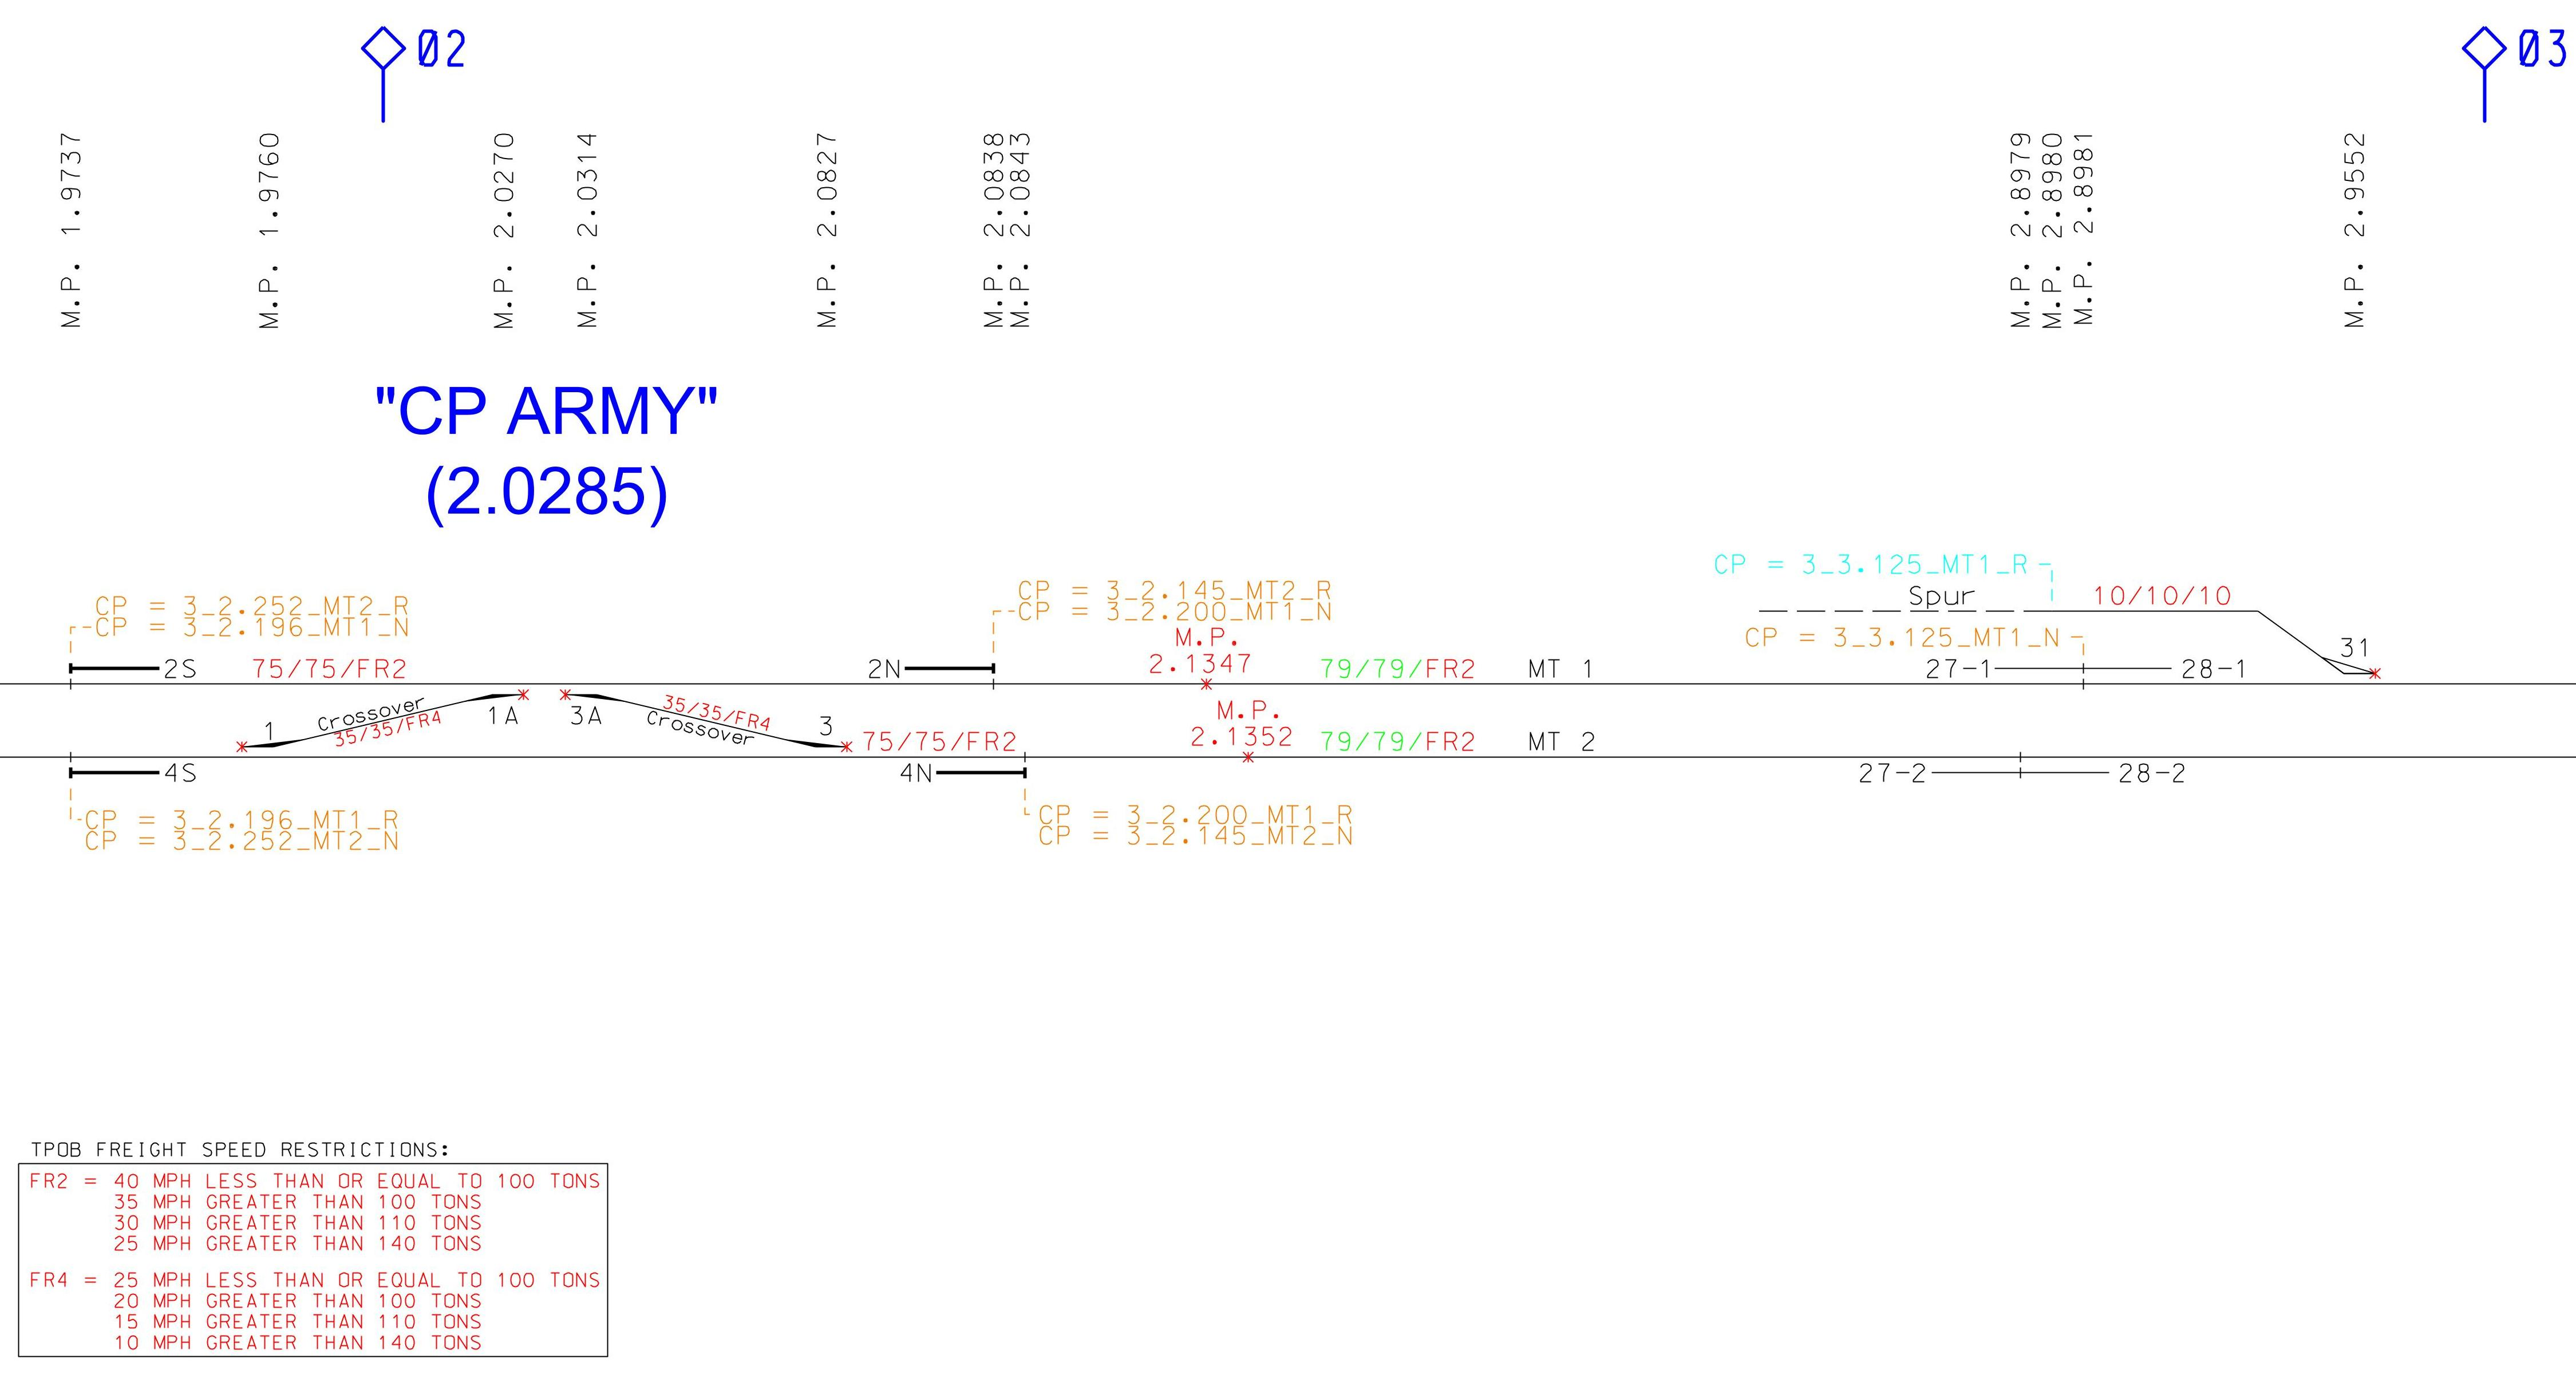leftSignal: (857, 649, 1002, 699), (891, 745, 1036, 793)
milepost: (49, 128, 95, 344), (566, 123, 612, 339), (484, 123, 528, 339), (2332, 124, 2377, 341), (249, 124, 293, 339), (806, 124, 850, 339)
rightSignal: (63, 651, 208, 699), (60, 747, 203, 794)
switch: (796, 707, 862, 767), (552, 677, 618, 735), (233, 718, 300, 772), (472, 677, 538, 731)
